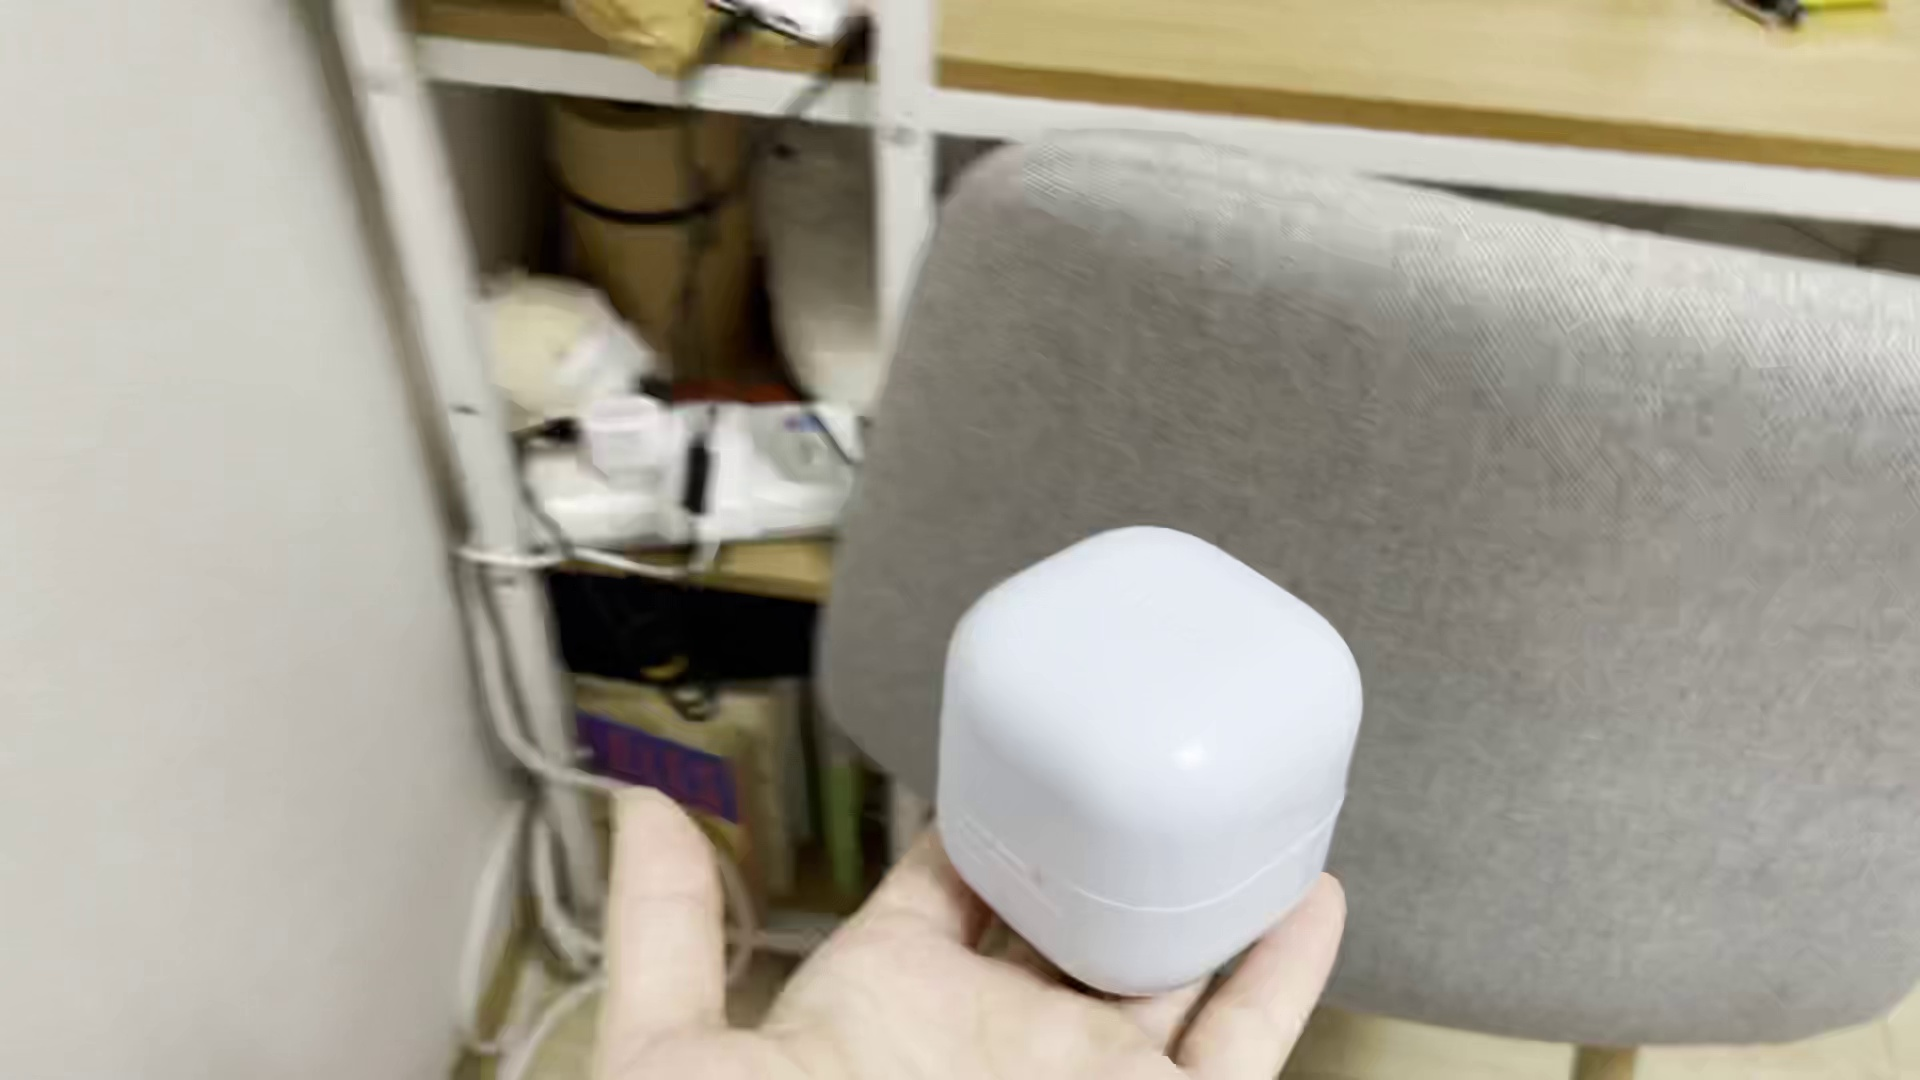cream: (930, 527, 1366, 1006)
